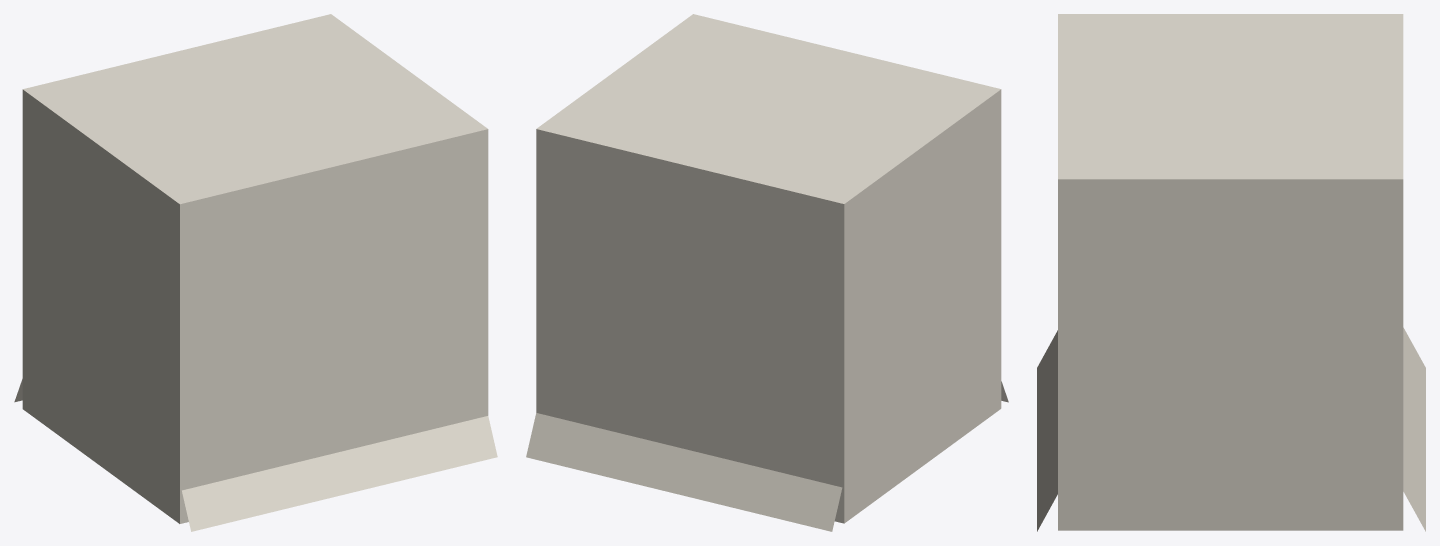
The model's file is saletag.gltf.
3 views of the same model, side by side, from view 1: azimuth 30°, elevation 25°; view 2: azimuth 150°, elevation 25°; view 3: azimuth 270°, elevation 25° (orthographic). The views are drawn at different scales.
Parts seen in each view (by area): view 1: LOScol, Tag; view 2: LOScol, Tag; view 3: LOScol, Tag.
Boxes of the visible parts, bbox=[...] form: LOScol: bbox=[22, 14, 488, 523]; Tag: bbox=[182, 416, 497, 531]; LOScol: bbox=[536, 14, 1001, 523]; Tag: bbox=[526, 413, 842, 531]; LOScol: bbox=[1058, 14, 1403, 530]; Tag: bbox=[1037, 327, 1425, 531].
Bounding box in the file's own units: 0.5032 × 0.5006 × 0.5.
Materials: 2 (1 with a texture image).
